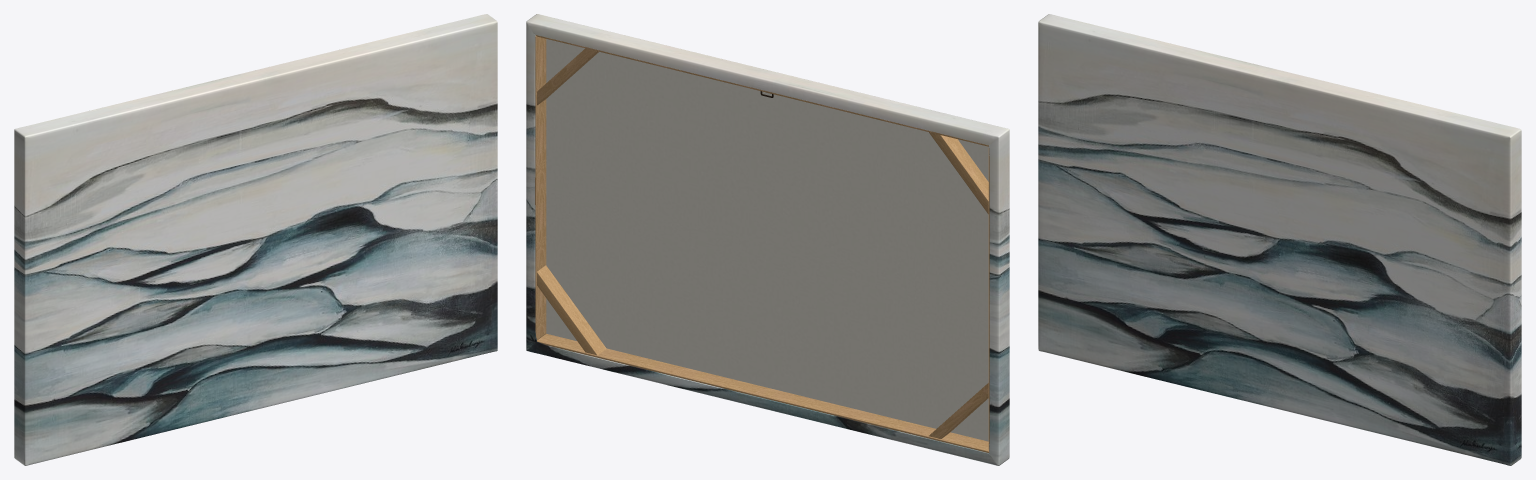
Rendered from B075HXSXNV.glb.
3 views of the same model, side by side, from view 1: azimuth 30°, elevation 25°; view 2: azimuth 150°, elevation 25°; view 3: azimuth 330°, elevation 25° (orthographic).
Visible parts, largest first — view 1: RootNode; view 2: RootNode; view 3: RootNode.
Part boxes in pixels (<box>): RootNode: <box>14,14,497,465</box>; RootNode: <box>526,14,1009,465</box>; RootNode: <box>1038,14,1521,465</box>.
Size of the model in its own units: 0.9143 by 0.6092 by 0.039.
1 material, 1 textured.
